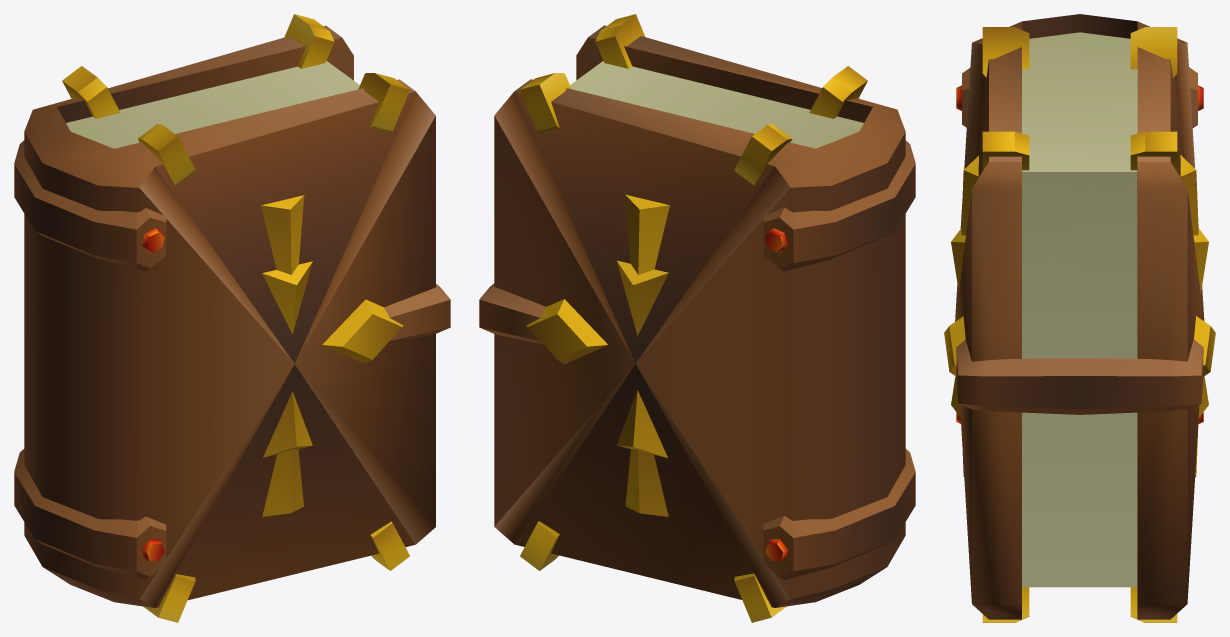
File: SpellBook1h_23.fbx
3 views of the same model, side by side, from view 1: azimuth 30°, elevation 25°; view 2: azimuth 150°, elevation 25°; view 3: azimuth 270°, elevation 25° (orthographic).
Visible parts, largest first — view 1: SpellBook1h_23; view 2: SpellBook1h_23; view 3: SpellBook1h_23.
Boxes of the visible parts, left/top/right/bottom form: SpellBook1h_23: left=14, top=14, right=450, bottom=622; SpellBook1h_23: left=479, top=14, right=915, bottom=622; SpellBook1h_23: left=944, top=14, right=1215, bottom=622.
Size of the model in its own units: 35.62 by 45.79 by 22.95.
